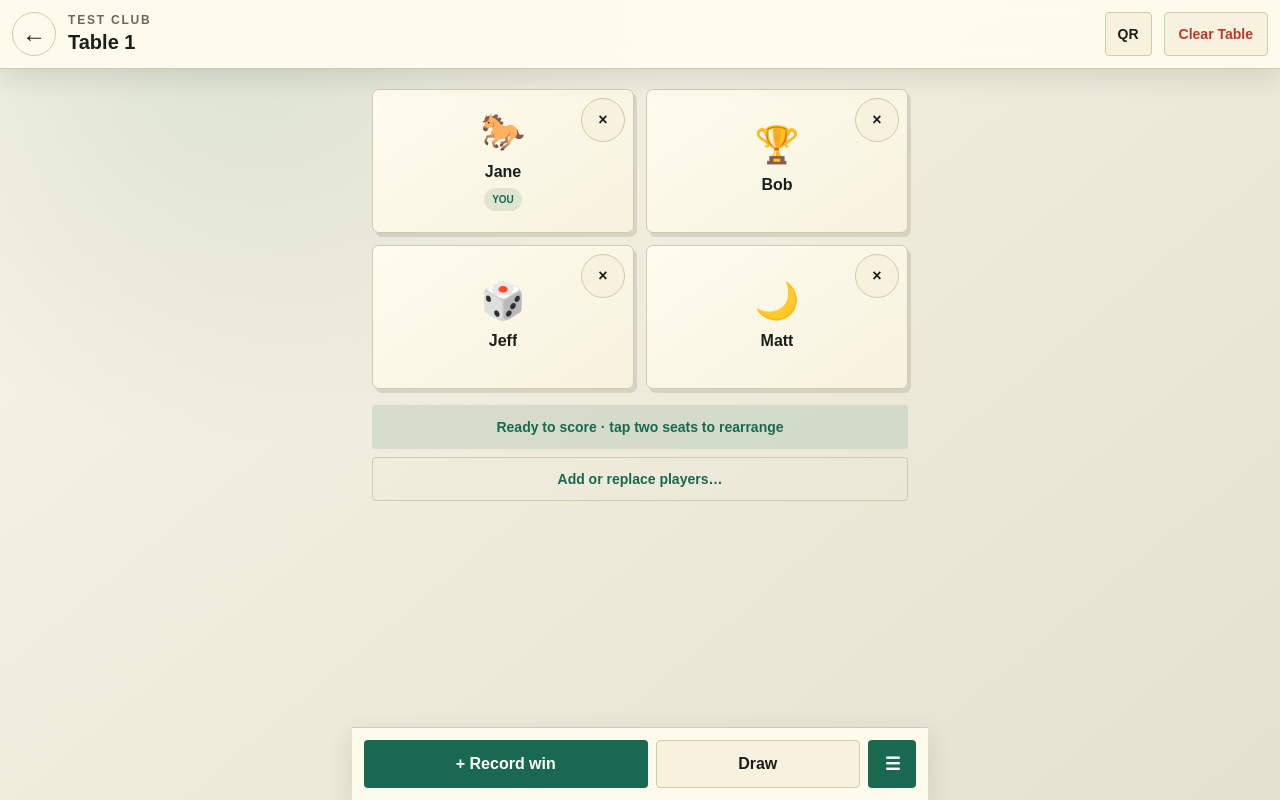
Test case: focused table scoring › keeps the save action outside the scrolling result form and celebrates a win
Click the button "+ Record win" at (506, 764), box [364,740,648,788]
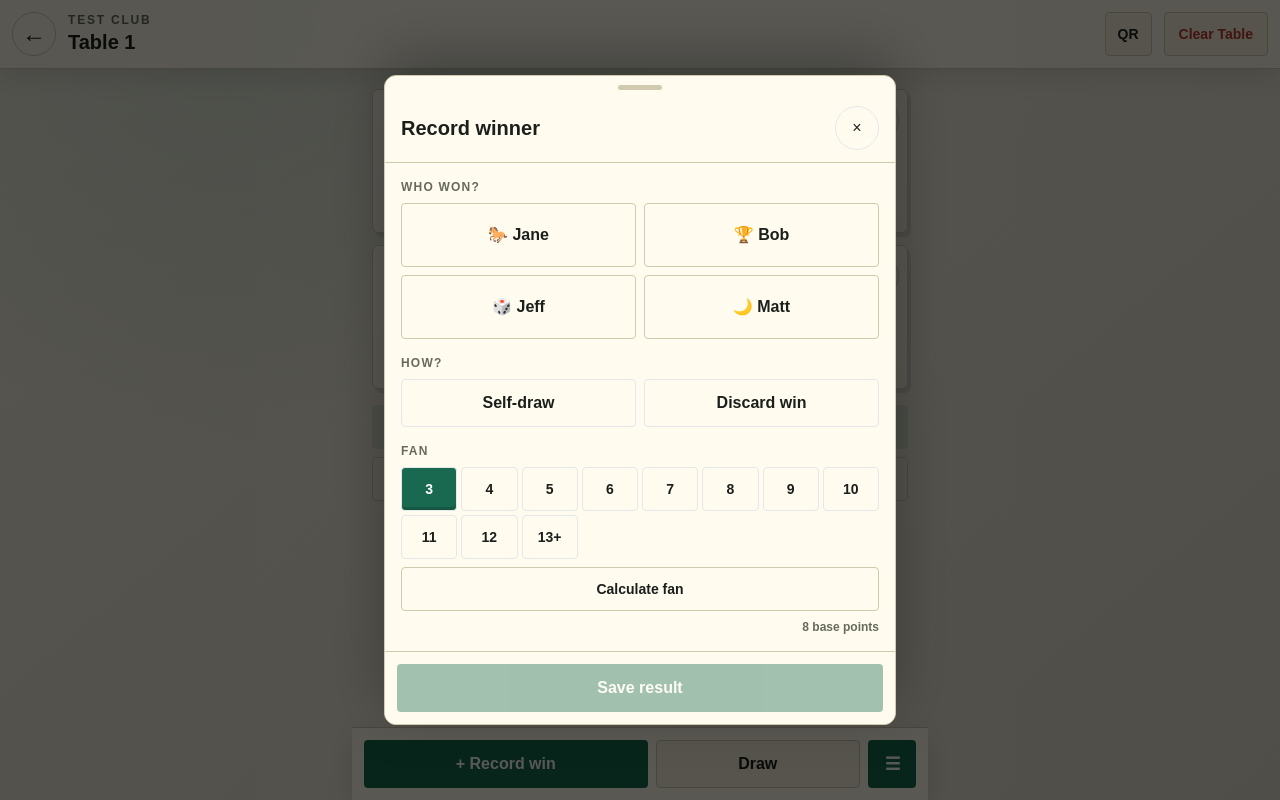
Click the button "🐎 Jane" at (518, 235), box [401,203,636,267]
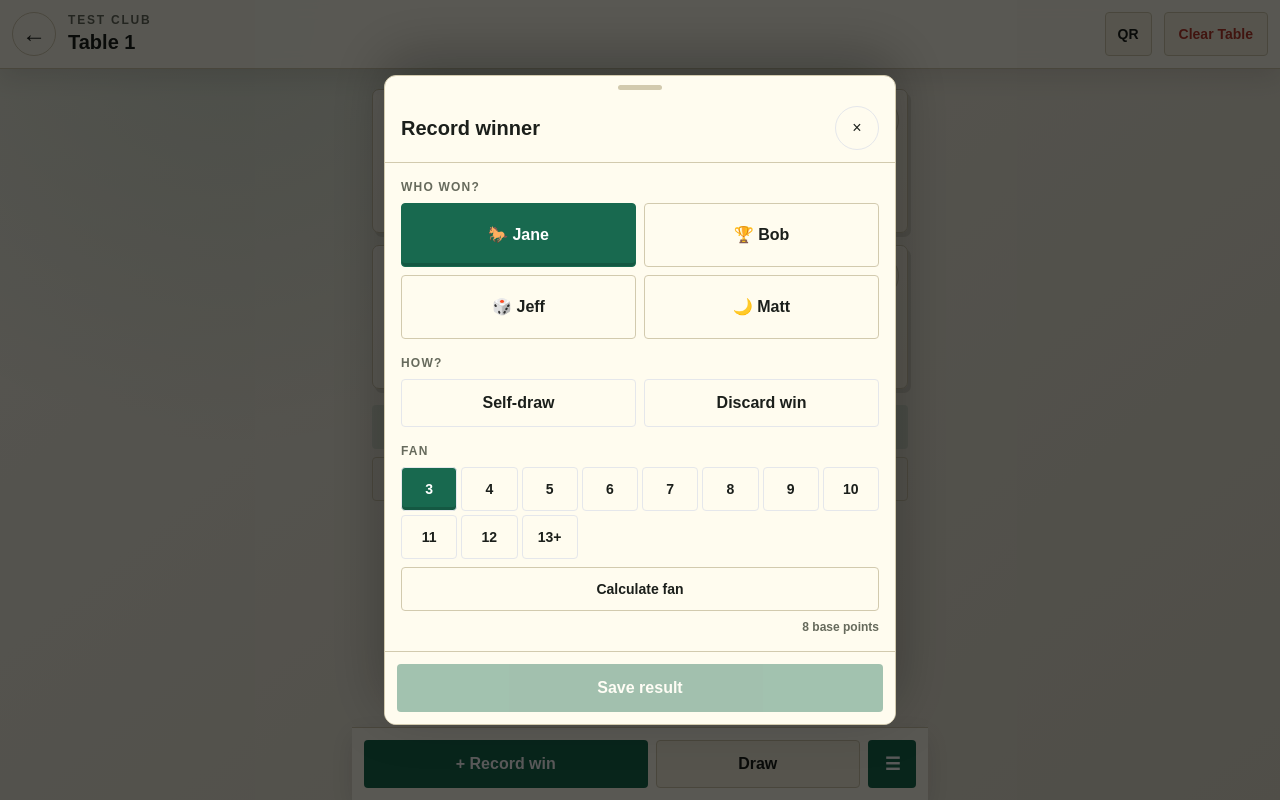
Click the button "Self-draw" at (518, 403), box [401,379,636,427]
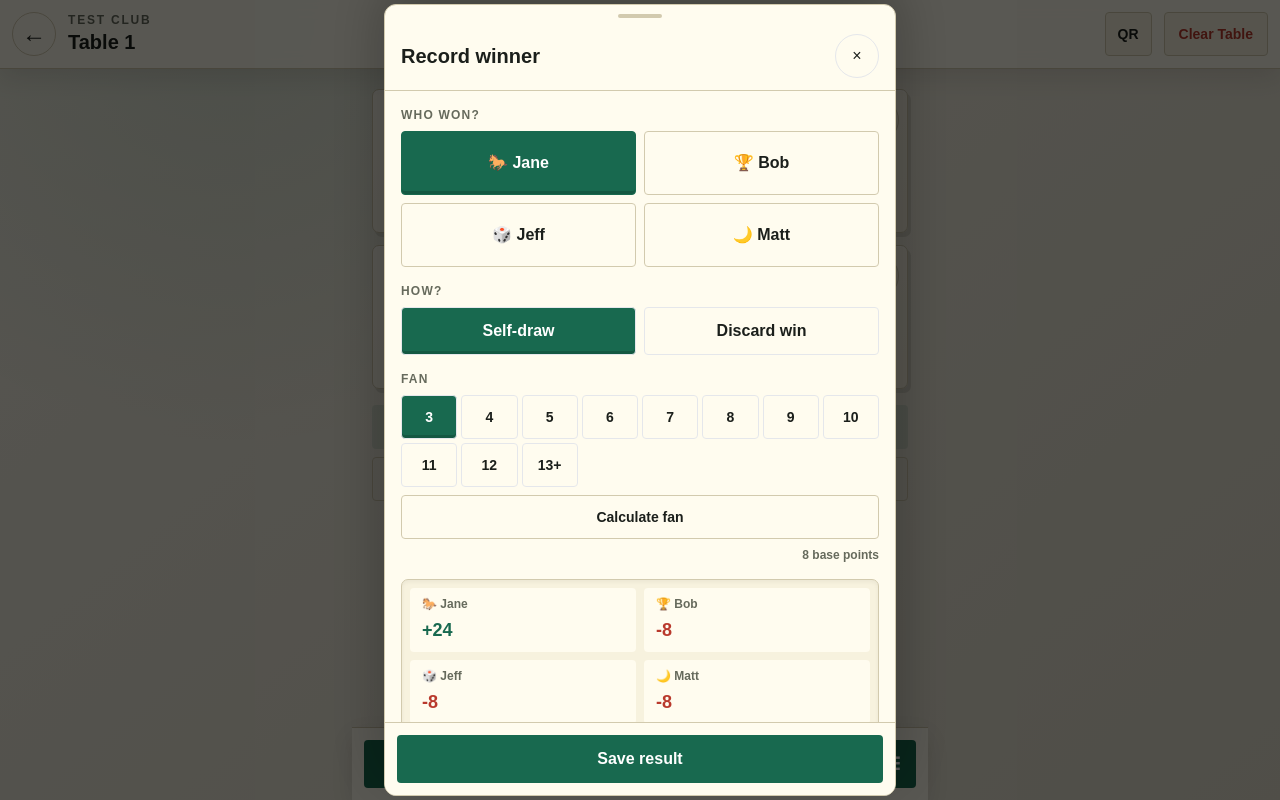
Click the button "Save result" at (640, 759), box [397,735,883,783]
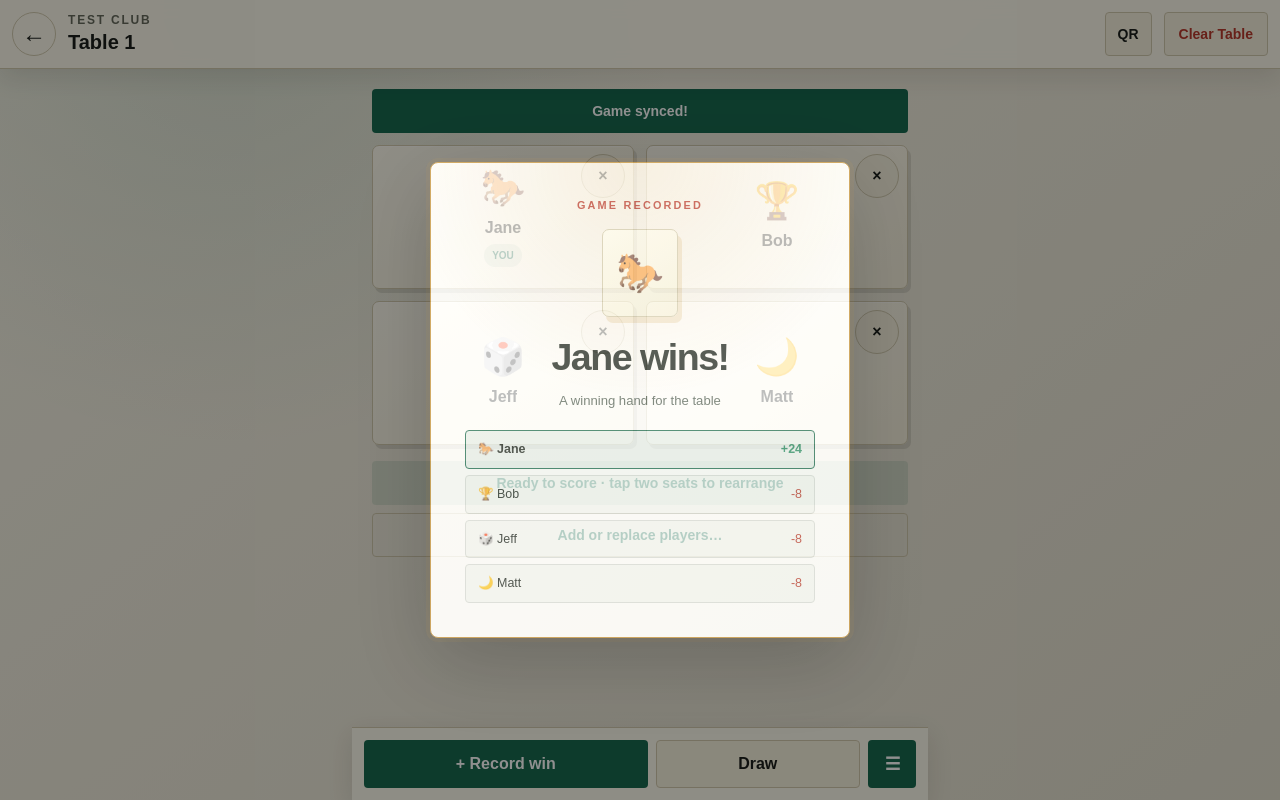
Result: the text "Jane wins!" is shown at [551,336,728,378]
